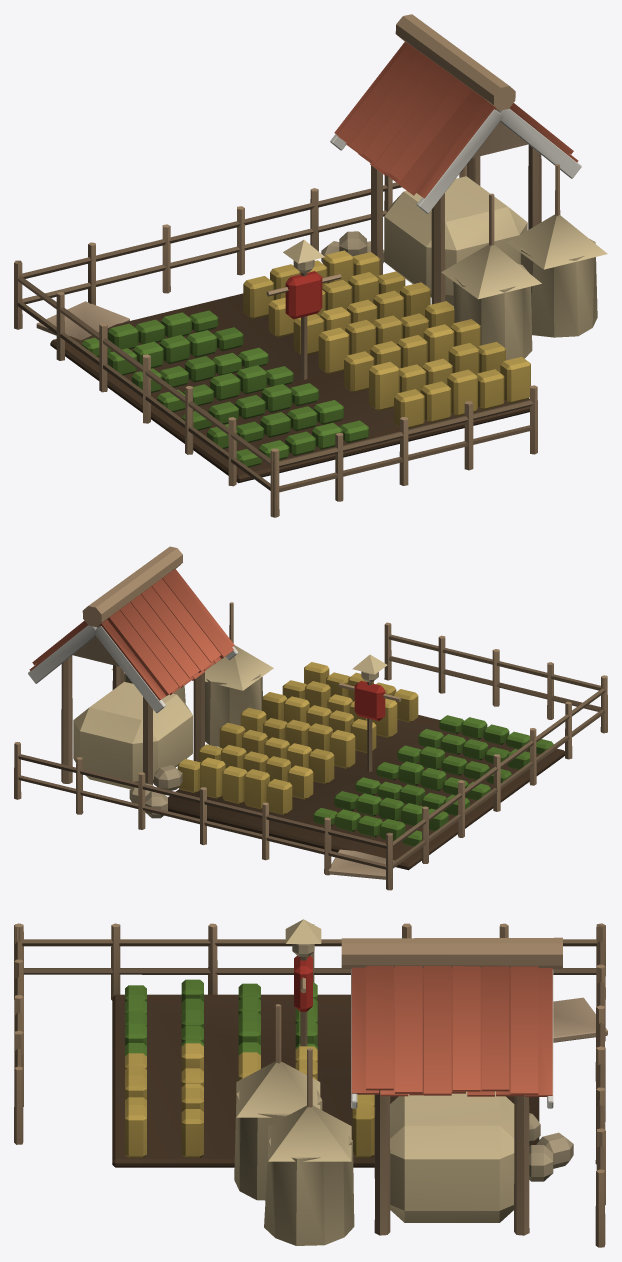
Rendered from bld_ferma_e1.glb.
The picture shows the model from 3 angles, top to bottom: view 1: azimuth 30°, elevation 25°; view 2: azimuth 150°, elevation 25°; view 3: azimuth 270°, elevation 25°; orthographic projection. The views are drawn at different scales.
Parts seen in each view (by area): view 1: ferma; view 2: ferma; view 3: ferma.
Boxes of the visible parts, left/top/right/bottom form: ferma: left=14, top=14, right=607, bottom=517; ferma: left=14, top=546, right=607, bottom=890; ferma: left=14, top=919, right=607, bottom=1247.
Size of the model in its own units: 1.9 by 0.9267 by 1.88.
